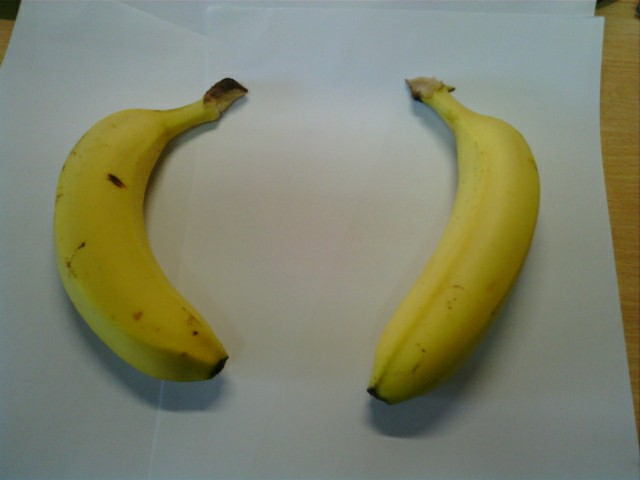fresh_banana: (369, 84, 542, 401)
normal_banana: (52, 94, 227, 381)
